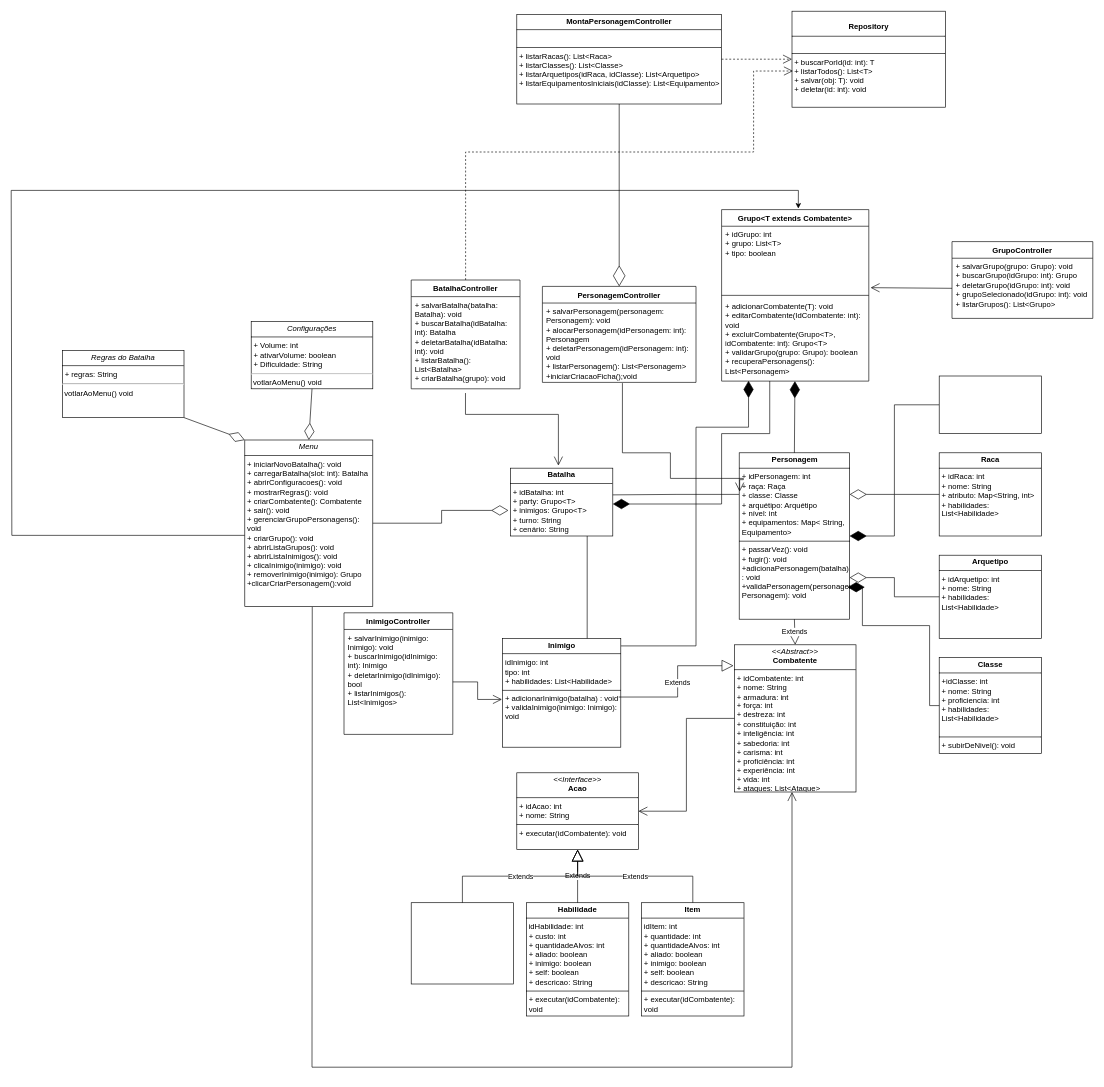
The diagram is 1104 pixels wide and 1087 high, and some of its shapes have lost their labels. Here are the shapes that lost their labels. From the top down, the centre of each, then its label:
At pixel 990 404: "Equipamento + idEquipamento: int + nome: String + slot: String + valor: int".
At pixel 462 943: "Arma idArma: int + tipo: String + dano: int + executar(idCombatente): void".
